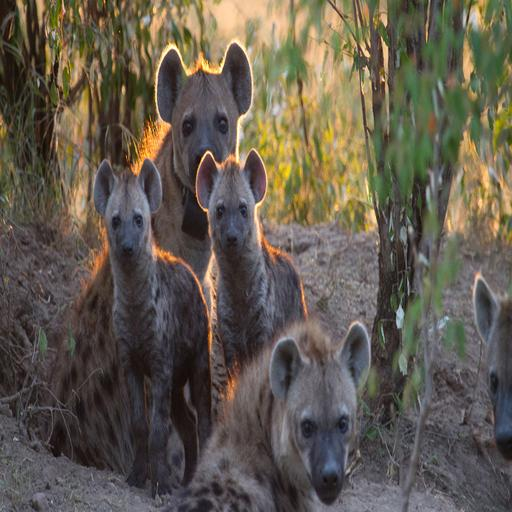Hyena: (48, 43, 259, 475), (45, 154, 225, 493), (180, 152, 323, 476), (203, 321, 377, 512), (480, 263, 512, 482)
